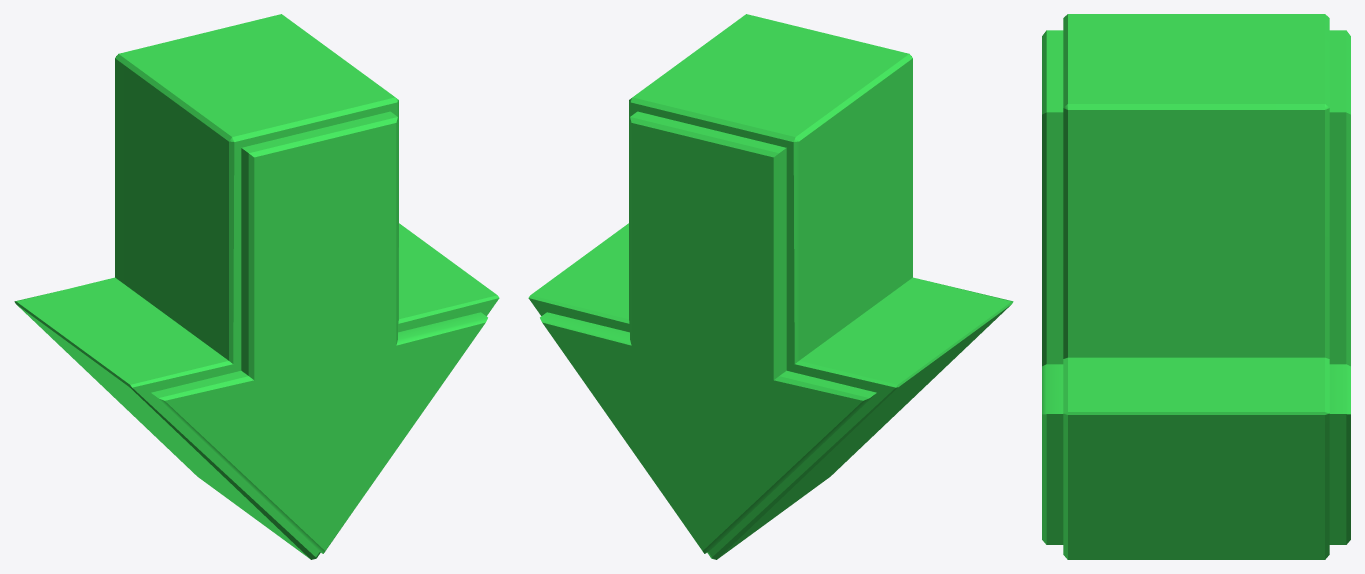
File: Emitter.vert.glb
The picture shows the model from 3 angles, left to right: view 1: azimuth 30°, elevation 25°; view 2: azimuth 150°, elevation 25°; view 3: azimuth 270°, elevation 25°; orthographic projection. The views are drawn at different scales.
Visible parts, largest first — view 1: Emitter; view 2: Emitter; view 3: Emitter.
Part boxes in pixels (left/top/right/bottom): Emitter: left=14, top=14, right=499, bottom=559; Emitter: left=528, top=14, right=1013, bottom=559; Emitter: left=1042, top=14, right=1350, bottom=559.
Size of the model in its own units: 0.2145 by 0.2458 by 0.1377.
